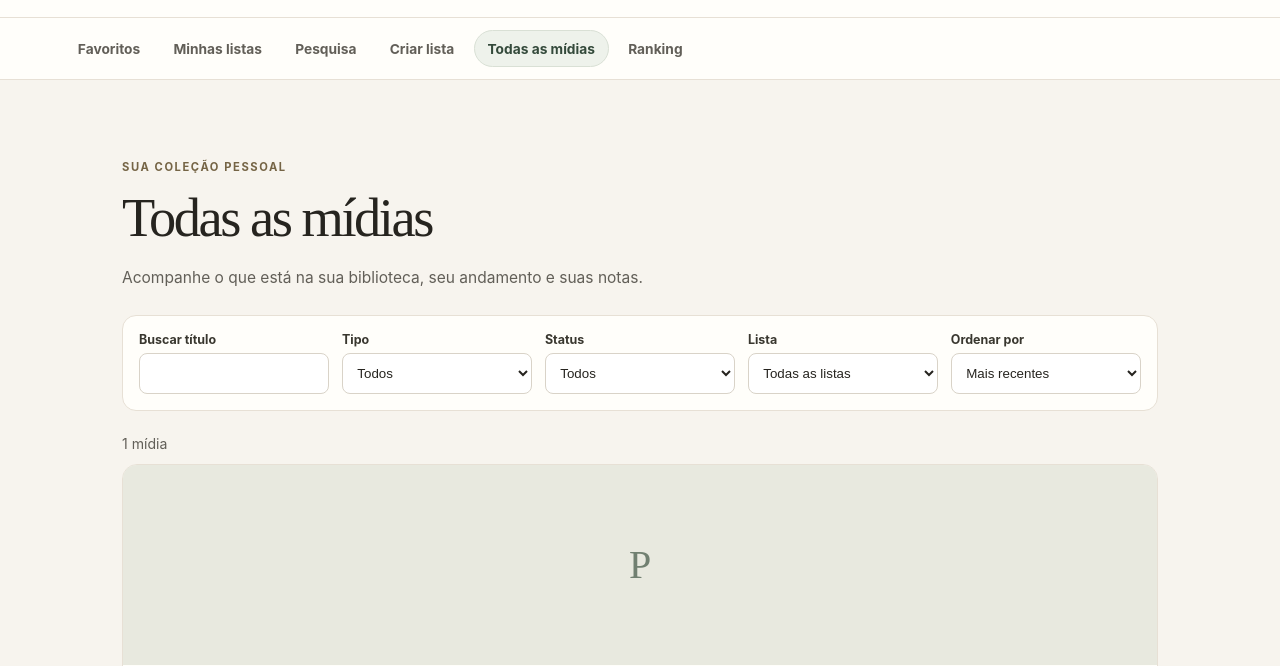
Test: cenario8_atualizarBibliotecaEConfirmarRemocao › confirms direct removal from the library and sends confirm=true
Click the button "Todas as mídias" at (541, 49), box x1=474 y1=30 x2=609 y2=67
(page scrolled)
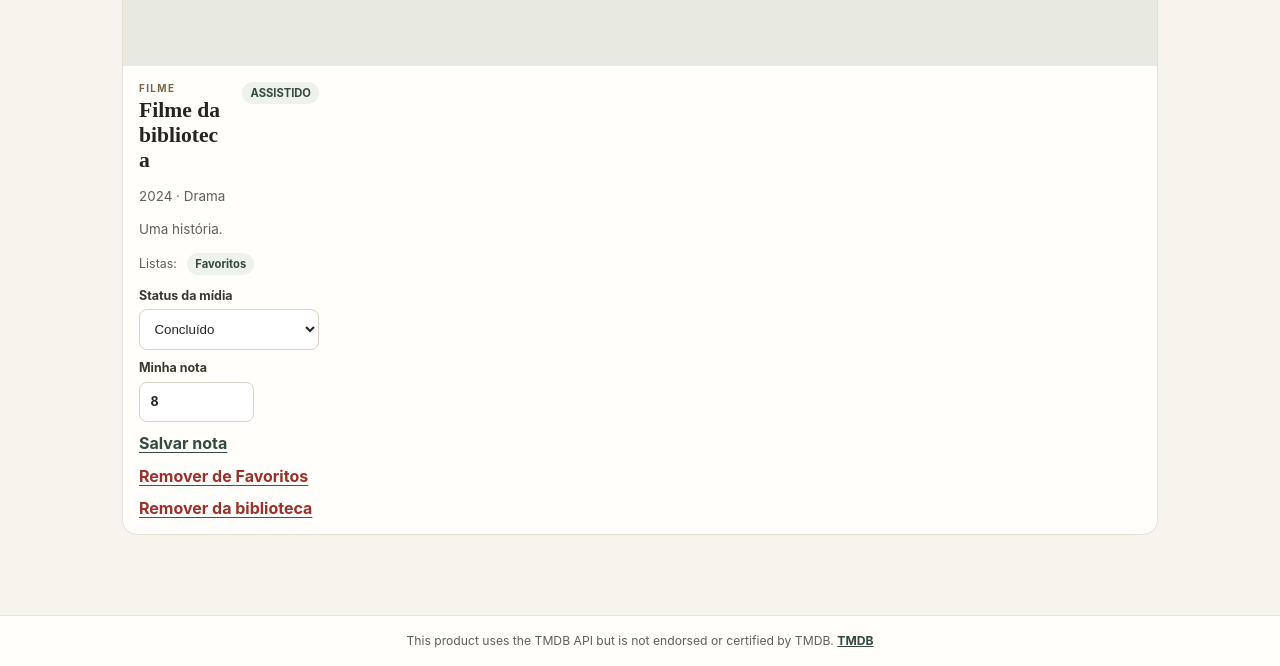
Expected: the heading "Filme da biblioteca" is shown, x1=139 y1=98 x2=226 y2=173
Click the button "Remover da biblioteca" at (226, 508), box x1=139 y1=498 x2=312 y2=518
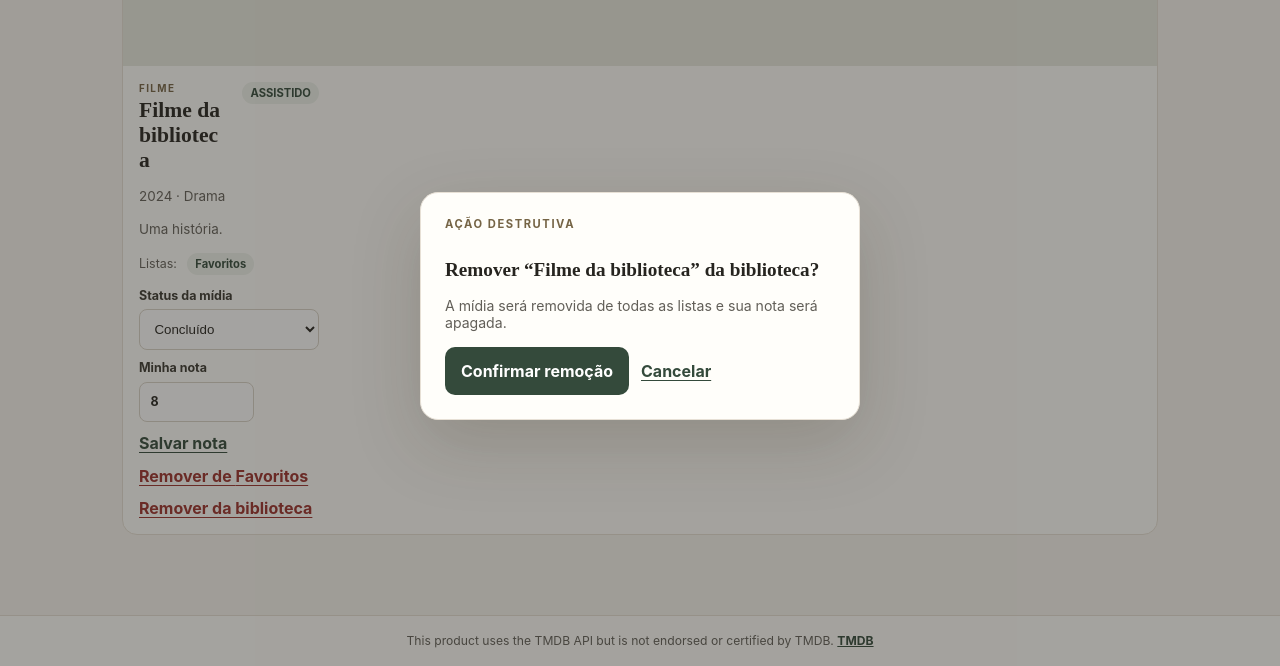
Now the dialog shows "nota será apagada", box x1=445 y1=297 x2=818 y2=331
Click the button "Confirmar remoção" at (537, 371), box x1=445 y1=347 x2=629 y2=395
(page scrolled)
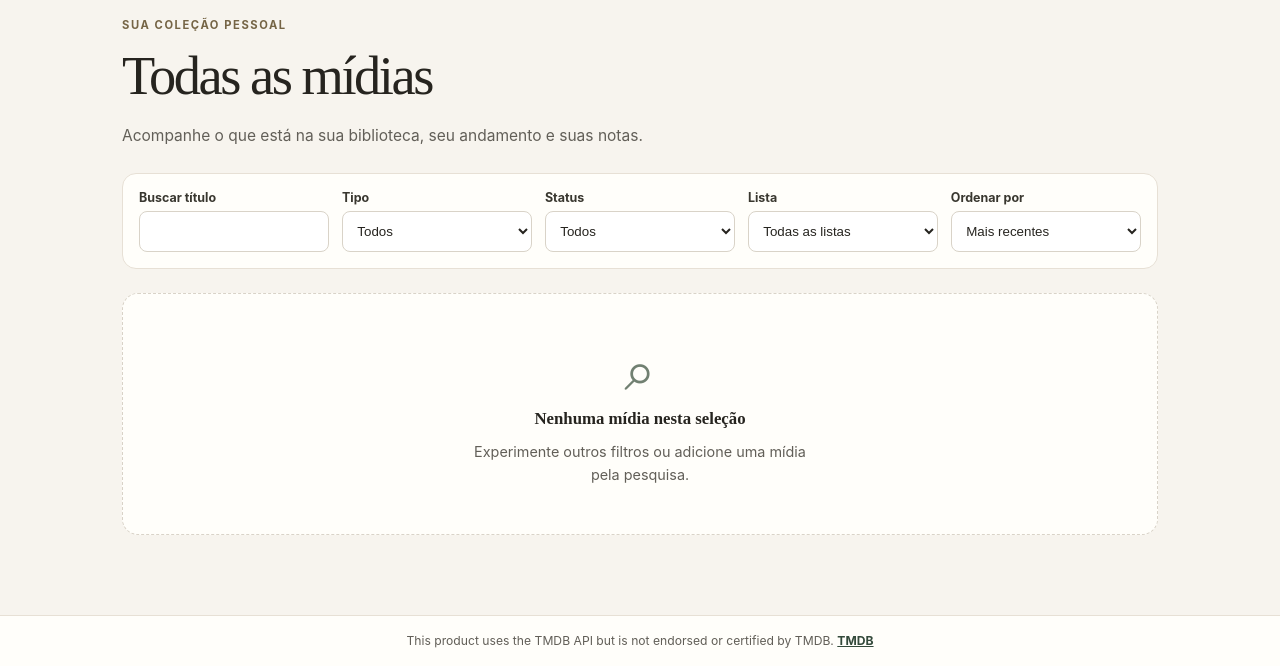
Now the heading "Nenhuma mídia nesta seleção" is shown, box x1=534 y1=409 x2=746 y2=429
